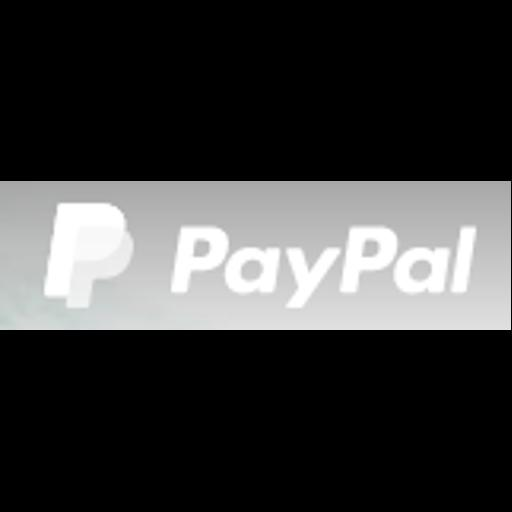PayPal: (0, 181, 511, 330)
